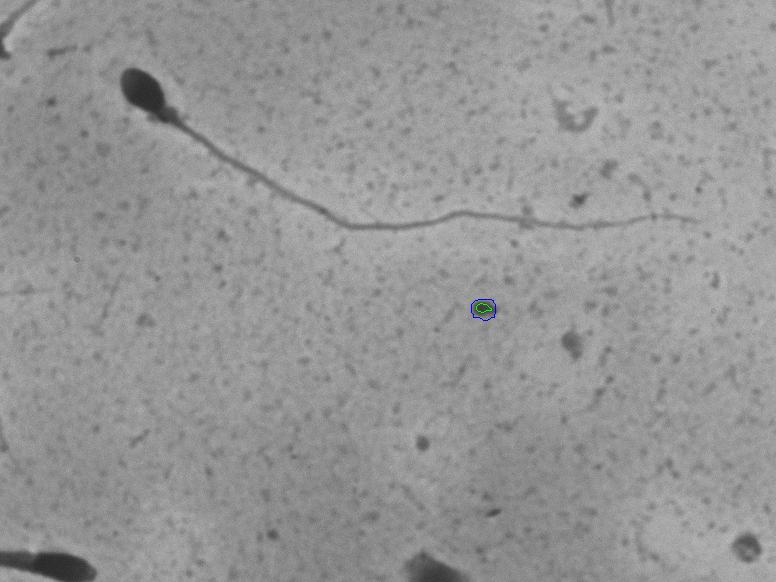Normal: (104, 48, 712, 248)
